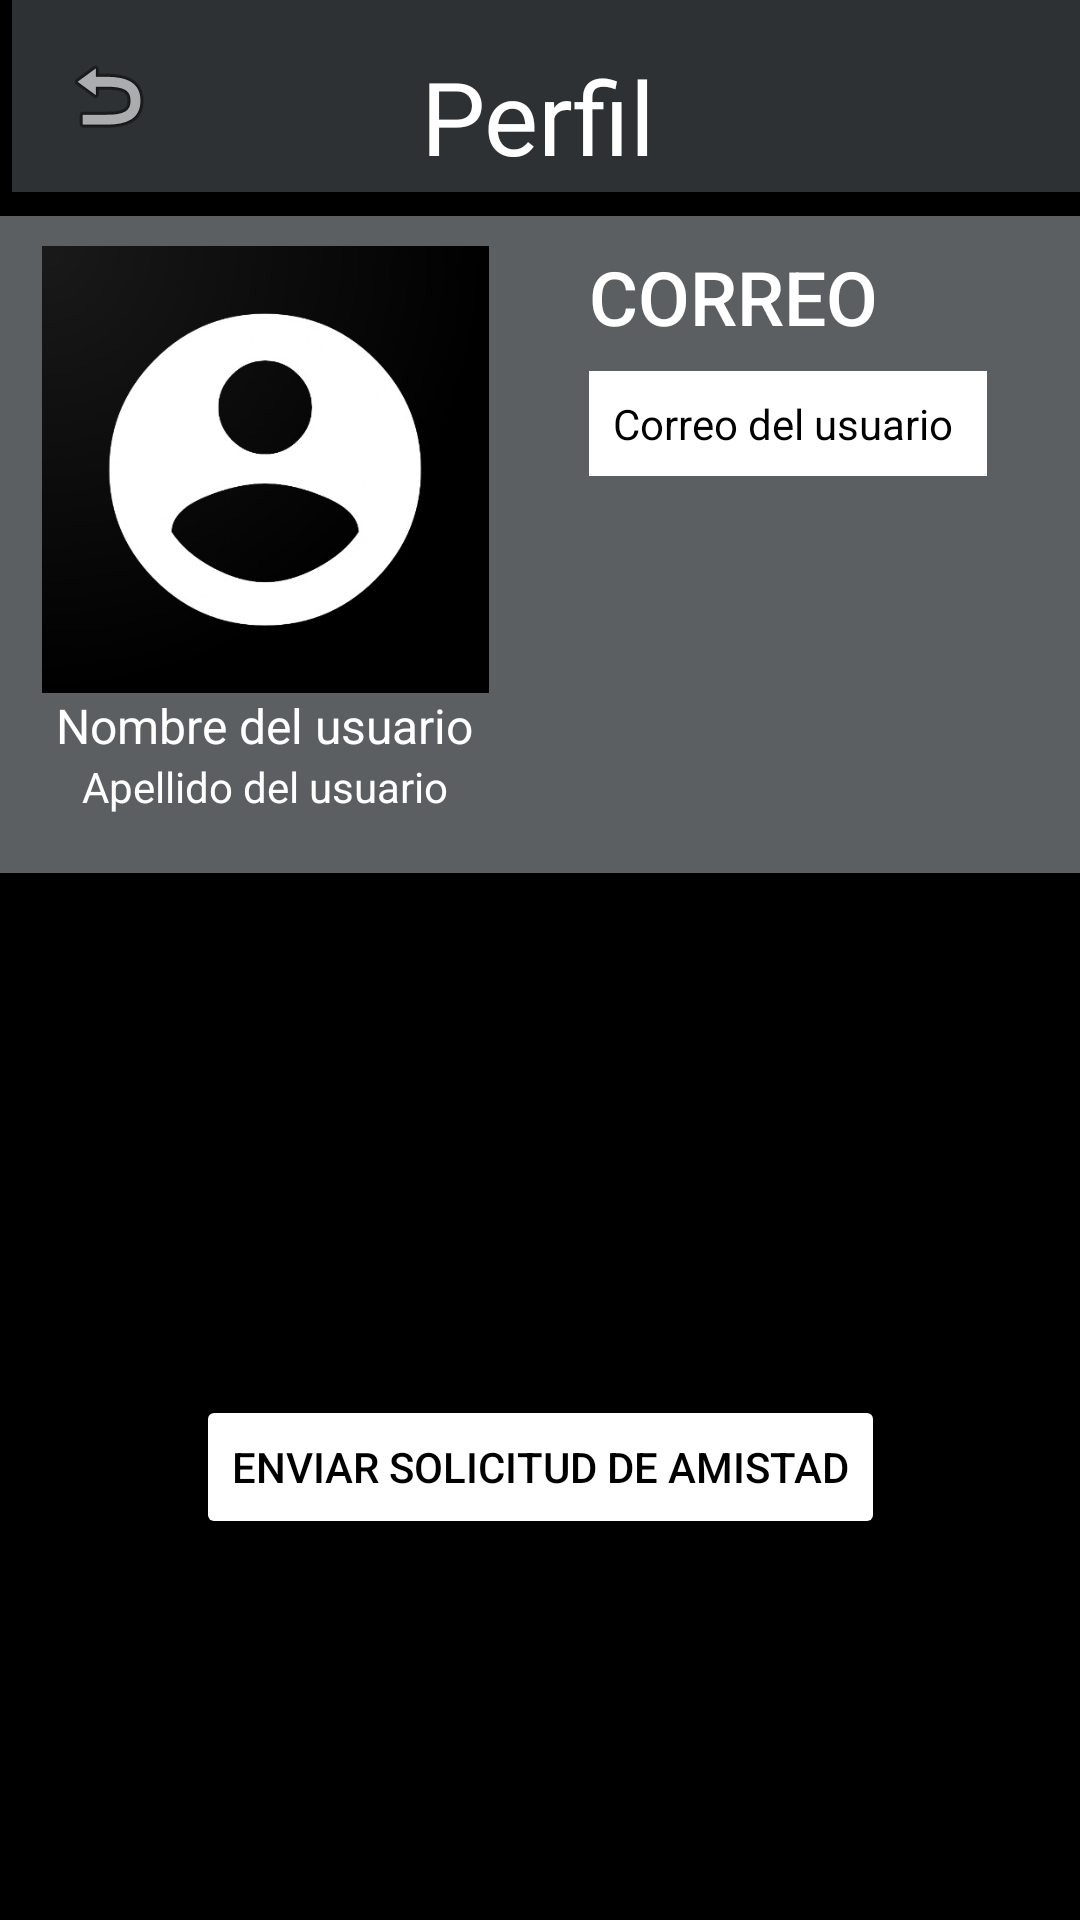

Screen size 1080 x 1920. Icon name, then its box in pixels as [x1=x1, y1=y1, x2=x2, y2=y2]:
revert: [x1=77, y1=68, x2=142, y2=126]
